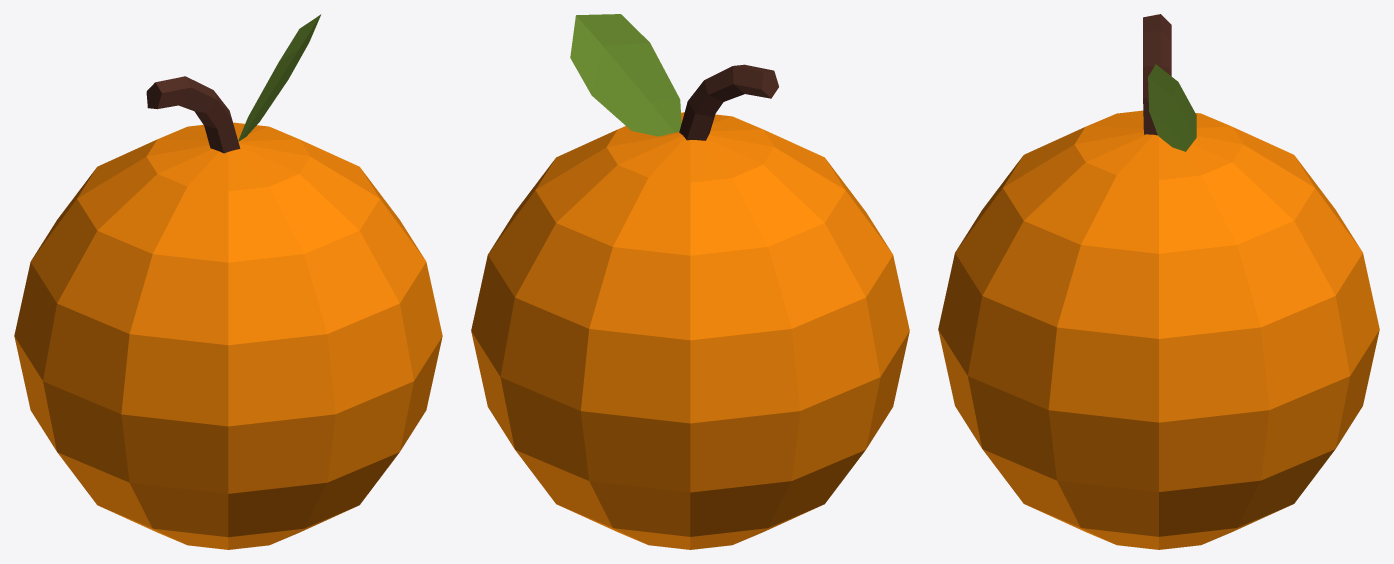
Rendered from orange.glb.
The picture shows the model from 3 angles, left to right: view 1: azimuth 30°, elevation 25°; view 2: azimuth 150°, elevation 25°; view 3: azimuth 270°, elevation 25°; orthographic projection. The views are drawn at different scales.
Parts seen in each view (by area): view 1: orange; view 2: orange; view 3: orange.
Boxes of the visible parts, <box> form: orange: <box>14,14,442,549</box>; orange: <box>471,14,909,549</box>; orange: <box>938,14,1379,549</box>.
Size of the model in its own units: 0.9393 by 1.17 by 0.9393.
1 material, 1 textured.
